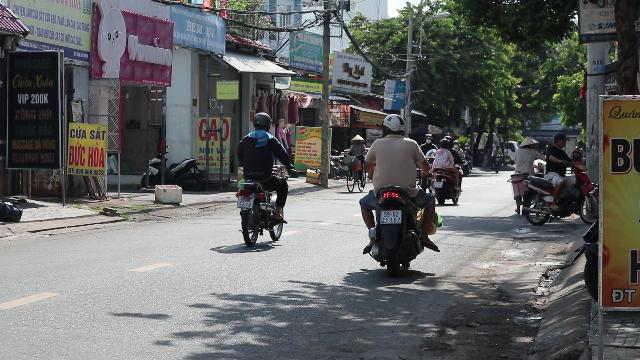helmet: (381, 112, 405, 136), (251, 112, 271, 131)
licenseplate: (380, 209, 400, 222), (237, 197, 253, 207)
motorcyclist: (357, 112, 441, 274), (232, 110, 292, 248)
